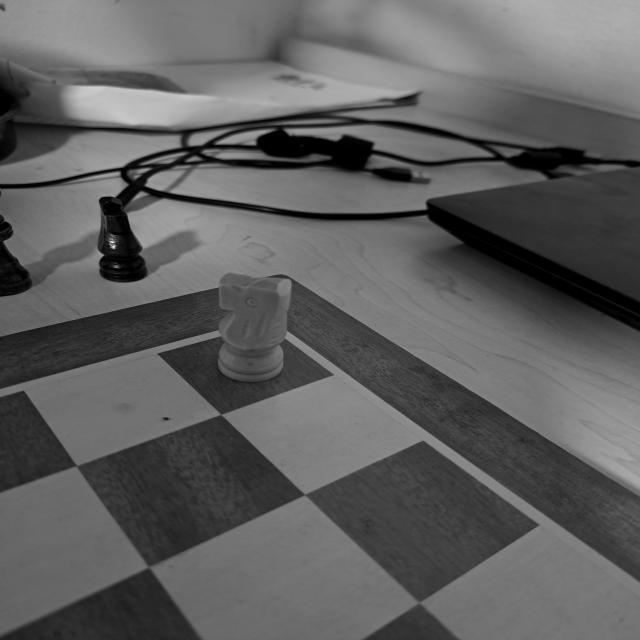chess-table-corners: (188, 304, 322, 354)
